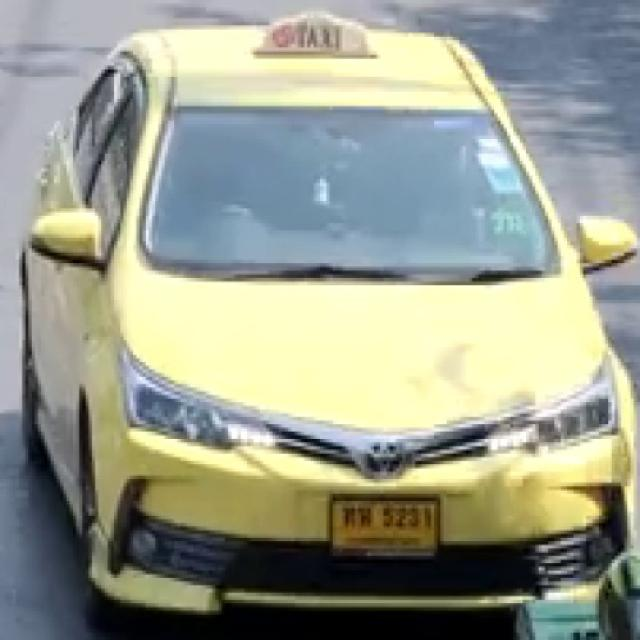plate: (328, 492, 440, 552)
